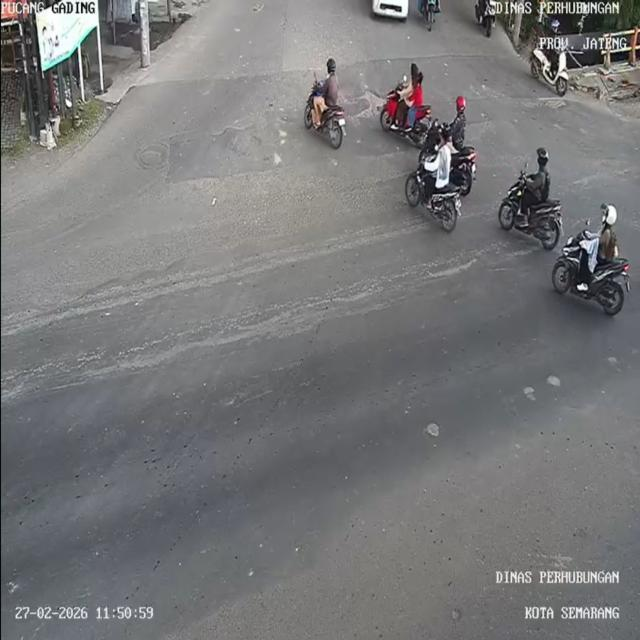motorcycle: (550, 237, 631, 316), (499, 183, 563, 255), (404, 158, 463, 235), (380, 92, 432, 146), (304, 92, 348, 150), (527, 49, 571, 95), (454, 146, 478, 194), (473, 0, 496, 41), (421, 0, 442, 35)
person: (524, 148, 553, 202), (594, 203, 618, 261), (449, 97, 467, 152), (399, 62, 419, 111), (320, 60, 338, 109), (435, 133, 450, 188), (548, 18, 562, 67), (411, 70, 425, 108)
rider_region: (552, 201, 632, 316), (498, 147, 564, 251), (402, 130, 462, 234), (425, 96, 477, 195), (380, 62, 433, 147), (304, 56, 348, 151), (529, 17, 571, 98)
